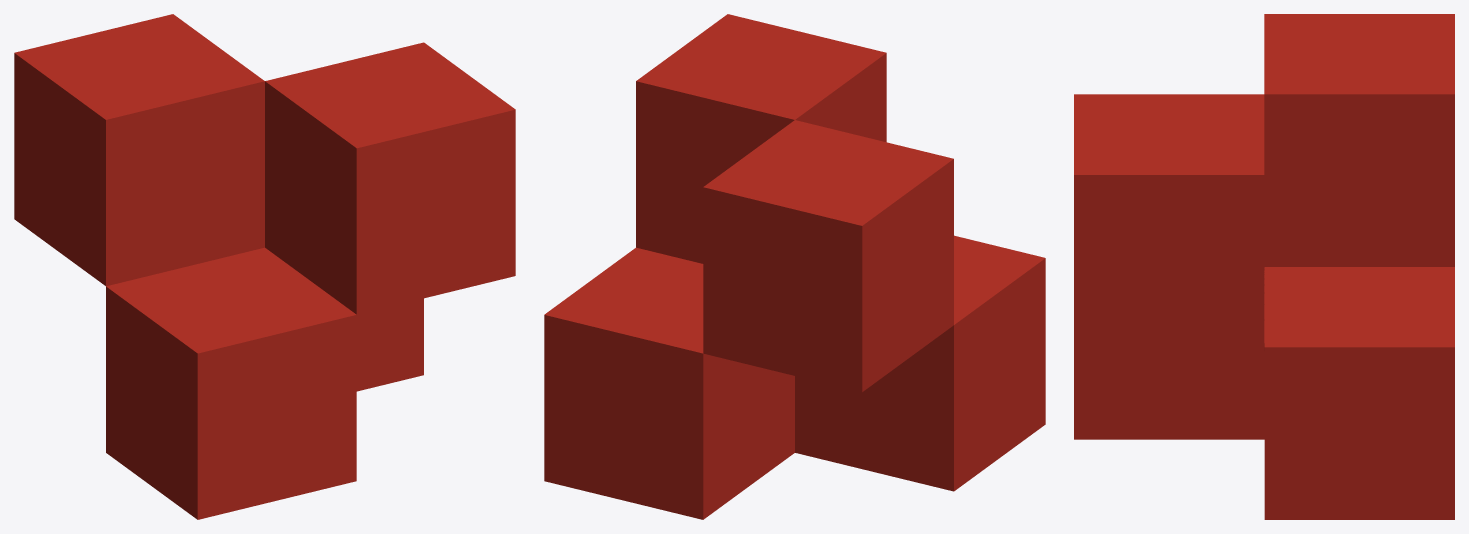
File: lvl_8.FBX
3 renders of one model, left to right at view 1: azimuth 30°, elevation 25°; view 2: azimuth 150°, elevation 25°; view 3: azimuth 270°, elevation 25°, orthographic. The views are drawn at different scales.
Parts seen in each view (by area): view 1: lvl_8; view 2: lvl_8; view 3: lvl_8.
Boxes of the visible parts, <box> form: lvl_8: <box>14,14,515,519</box>; lvl_8: <box>544,14,1045,519</box>; lvl_8: <box>1074,14,1454,519</box>.
Size of the model in its own units: 20 by 20 by 20.
